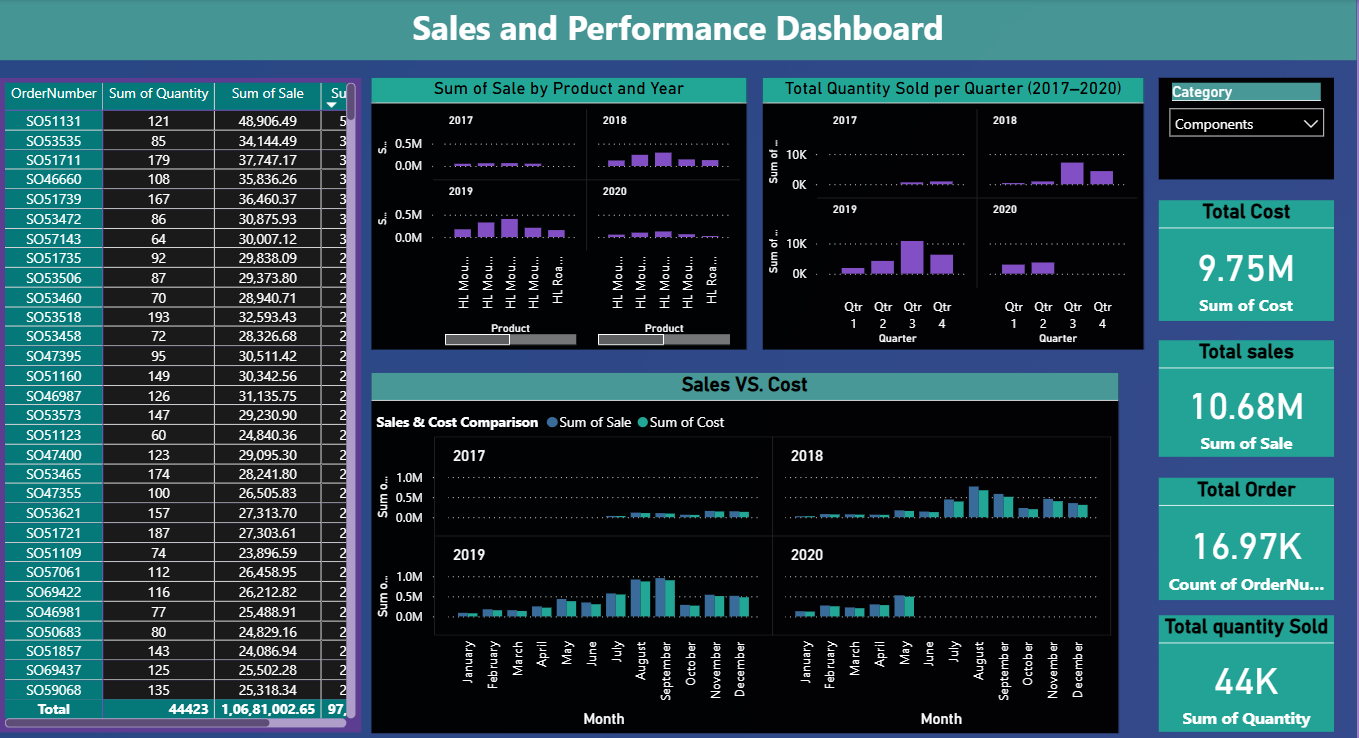

This screenshot's page, from the dashboard's own definition file:
{"tool":"powerbi","page":{"name":"Product sales Dashboard","canvas":[1313,722],"ordinal":1},"visuals":[{"type":"card","title":"Total sales","fields":{"Values":["Sum(Sales.Sale)"]},"box":[1121,330.4,169.8,113.2],"z":0},{"type":"card","title":"Total Order","fields":{"Values":["CountNonNull(Sales.OrderNumber)"]},"box":[1121,463.7,169.8,118.7],"z":1000},{"type":"card","title":"Total quantity Sold","fields":{"Values":["Sum(Sales.Quantity)"]},"box":[1121,597,169.8,113.2],"z":2000},{"type":"card","title":"Total Cost","fields":{"Values":["Sum(Sales.Cost)"]},"box":[1121,195.3,169.8,116.8],"z":3000},{"type":"pivotTable","fields":{"Rows":["Sales.OrderNumber"],"Values":["Sum(Sales.Quantity)","Sum(Sales.Sale)","Sum(Sales.Cost)"]},"box":[0,76.6,349.4,633.8],"z":4000},{"type":"textbox","box":[0,0,1313,50.6],"z":5000},{"type":"clusteredColumnChart","title":"Sales VS. Cost","fields":{"Category":["Sales.Order Date.Variation.Date Hierarchy.Month"],"Y":["Sum(Sales.Sale)","Sum(Sales.Cost)"],"Rows":["Sales.Order Date.Variation.Date Hierarchy.Year"]},"box":[359.7,361.5,723,348.7],"z":6000},{"type":"clusteredColumnChart","title":"Total Quantity Sold per Quarter (2017–2020)","fields":{"Category":["Sales.Order Date.Variation.Date Hierarchy.Quarter"],"Rows":["Sales.Order Date.Variation.Date Hierarchy.Year"],"Y":["Sum(Sales.Quantity)"]},"box":[737.6,76.7,368.8,262.9],"z":7001},{"type":"clusteredColumnChart","fields":{"Category":["Sales.Product"],"Y":["Sum(Sales.Sale)"],"Rows":["Sales.Order Date.Variation.Date Hierarchy.Year"]},"box":[359.7,76.7,363.3,262.9],"z":7002},{"type":"slicer","fields":{"Values":["Sales.Category"]},"box":[1121,76.7,169.8,98.6],"z":7003}]}

Visuals, with their boxes in screenshot pixels (x1, y1, x2, y2), scaled from the page's 1313x722 canvas onto the 1359x738 screenshot:
"Total sales" card: detection(1160, 338, 1336, 453)
"Total Order" card: detection(1160, 474, 1336, 595)
"Total quantity Sold" card: detection(1160, 610, 1336, 726)
"Total Cost" card: detection(1160, 200, 1336, 319)
pivotTable - Sales.OrderNumber x Sum(Sales.Quantity): detection(0, 78, 362, 726)
textbox: detection(0, 0, 1358, 52)
"Sales VS. Cost" clusteredColumnChart: detection(372, 370, 1121, 726)
"Total Quantity Sold per Quarter (2017–2020)" clusteredColumnChart: detection(763, 78, 1145, 347)
clusteredColumnChart - Sales.Product x Sum(Sales.Sale): detection(372, 78, 748, 347)
slicer - Sales.Category: detection(1160, 78, 1336, 179)
